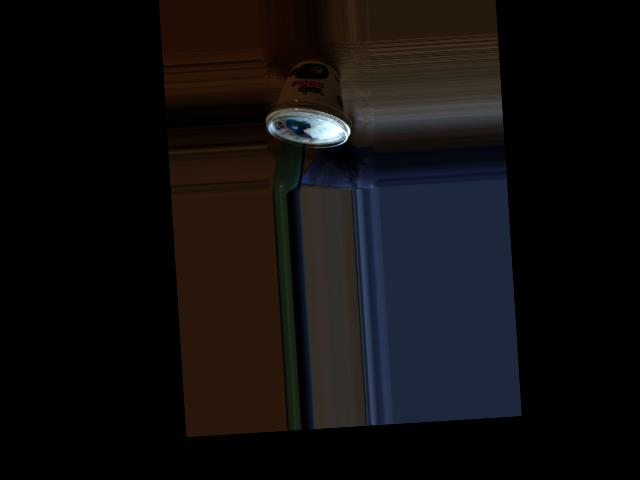cotage: (271, 65, 347, 151)
